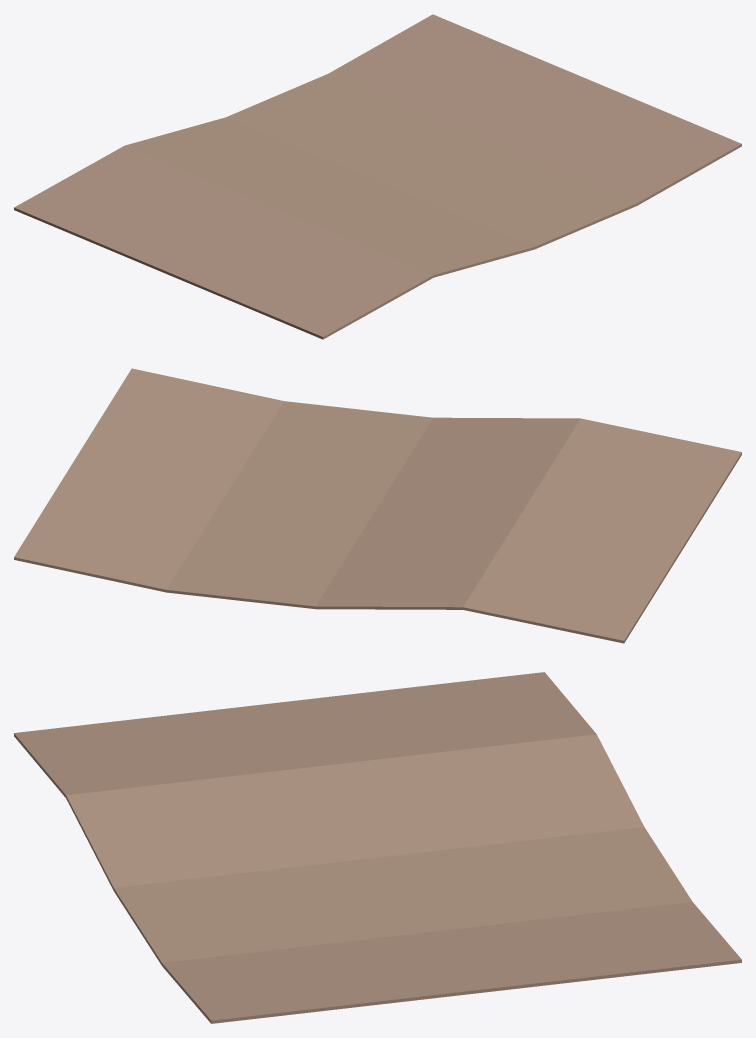
File: Paper_3.fbx
3 views of the same model, one above another, from view 1: azimuth 30°, elevation 25°; view 2: azimuth 150°, elevation 25°; view 3: azimuth 270°, elevation 25° (orthographic). The views are drawn at different scales.
Visible parts, largest first — view 1: Paper_3; view 2: Paper_3; view 3: Paper_3.
Part boxes in pixels (left/top/right/bottom): Paper_3: left=14, top=14, right=741, bottom=339; Paper_3: left=14, top=368, right=741, bottom=643; Paper_3: left=14, top=672, right=741, bottom=1023.
Bounding box in the file's own units: 58.07 × 48.63 × 1.62.
